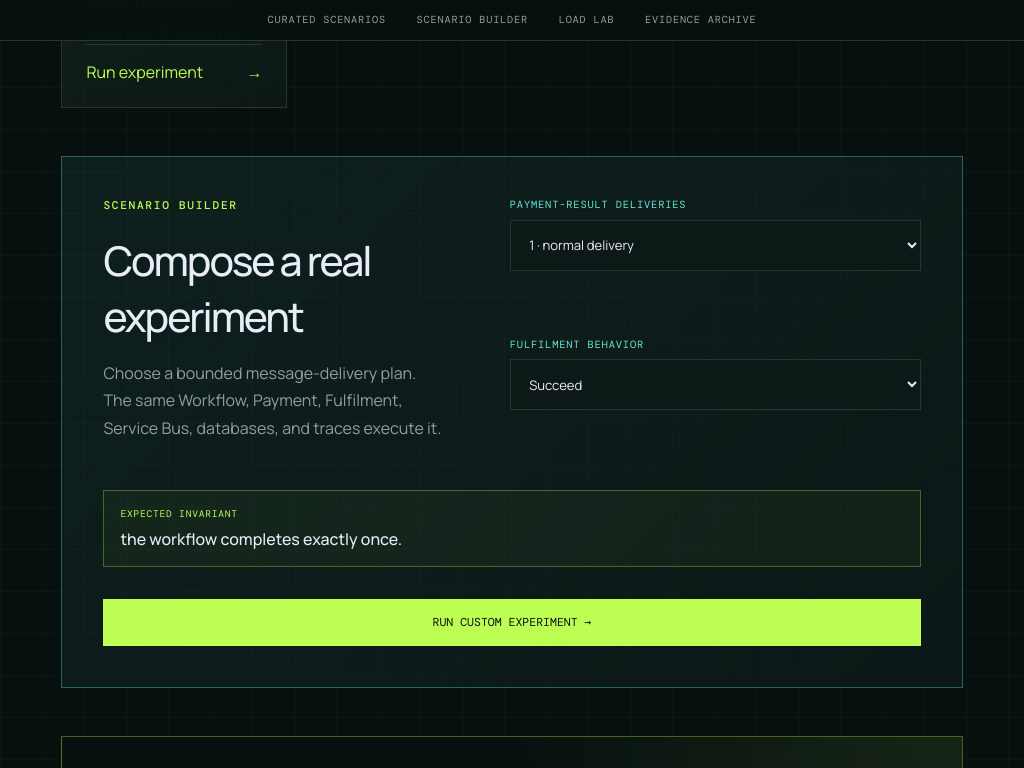
Test: EventLab experiment console › reveals bounded retry and recovery controls only for unavailable fulfilment
(page scrolled)
Expected: the dropdown labelled "Retry budget" is not shown
Select "Unavailable → DLQ → recovery" in the dropdown labelled "Fulfilment behavior" at [715, 385], box left=510, top=359, right=921, bottom=410
(page scrolled)
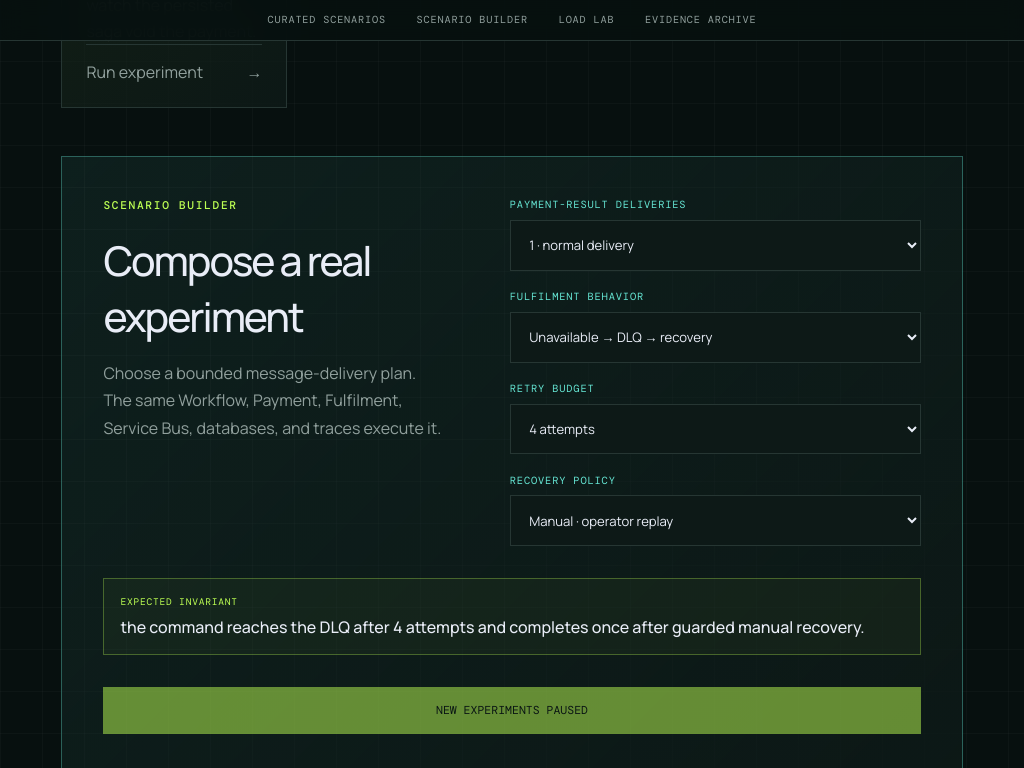
Expected: the dropdown labelled "Retry budget" is shown, left=510, top=404, right=921, bottom=454
Expected: the dropdown labelled "Recovery policy" is shown, left=510, top=495, right=921, bottom=546
